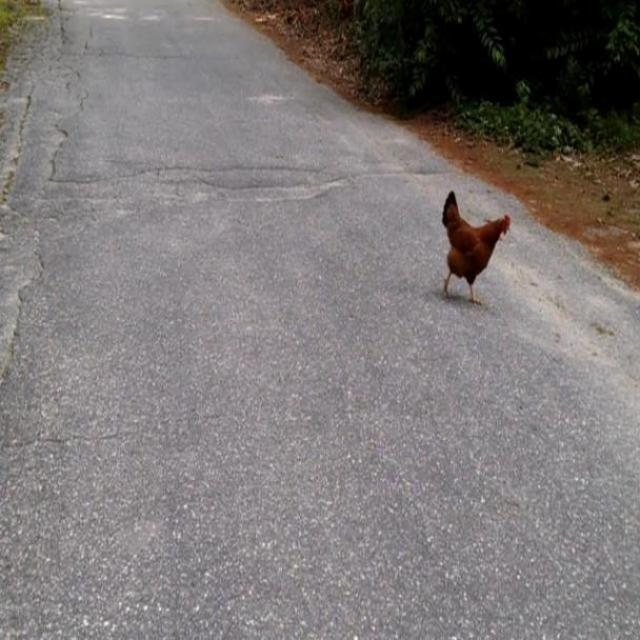Chicken: (441, 190, 512, 308)
